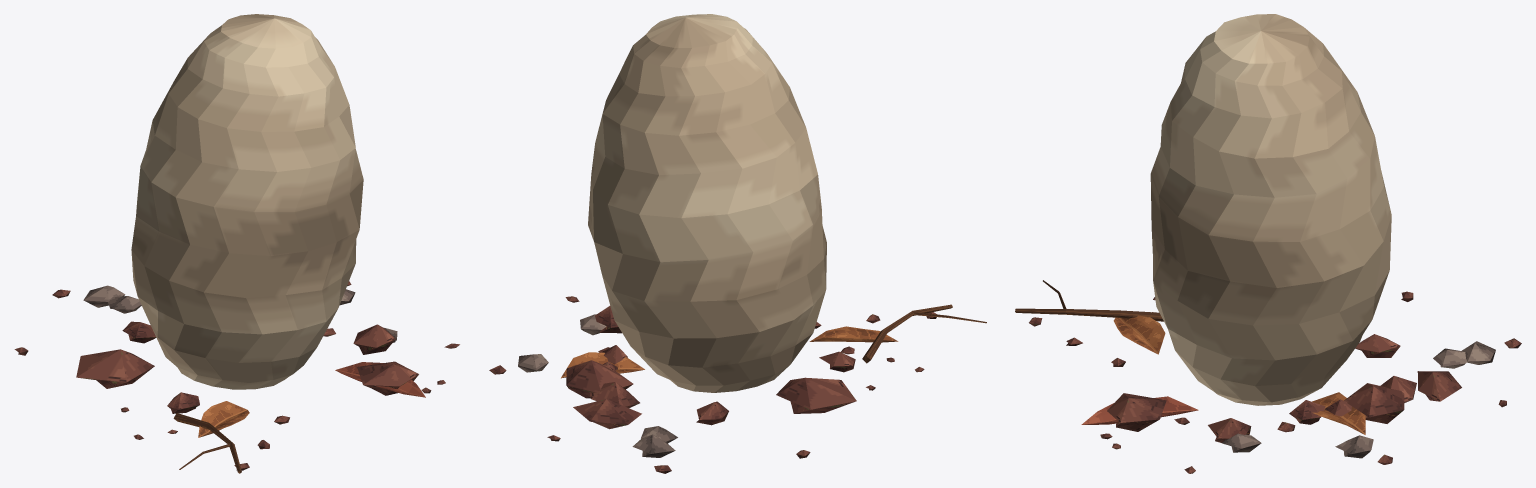
Rendered from SM_AN31_Egg.fbx.
3 renders of one model, left to right at view 1: azimuth 30°, elevation 25°; view 2: azimuth 150°, elevation 25°; view 3: azimuth 270°, elevation 25°, orthographic. The views are drawn at different scales.
Parts seen in each view (by area): view 1: AN31a_Props; view 2: AN31a_Props; view 3: AN31a_Props.
Boxes of the visible parts, x1=… form: AN31a_Props: x1=14, y1=14, x2=459, y2=473; AN31a_Props: x1=489, y1=14, x2=986, y2=473; AN31a_Props: x1=1015, y1=14, x2=1521, y2=473.
Bounding box in the file's own units: 0.693 × 0.6552 × 0.8119.
